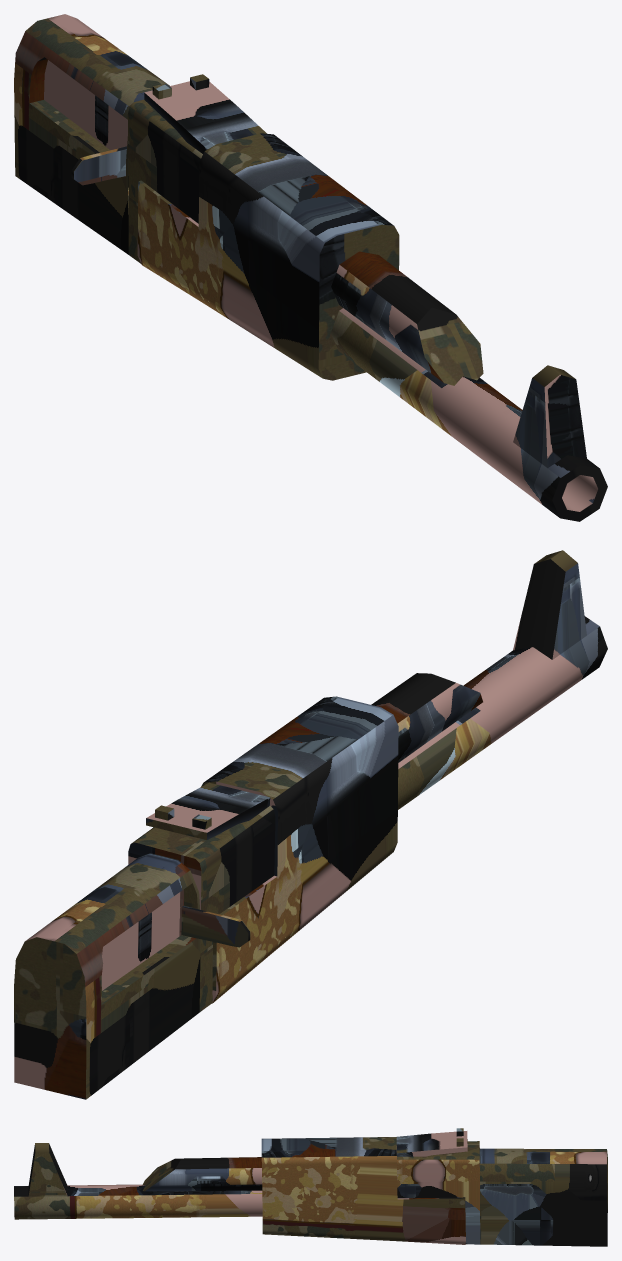
File: AkFVP.fbx
The picture shows the model from 3 angles, top to bottom: view 1: azimuth 30°, elevation 25°; view 2: azimuth 150°, elevation 25°; view 3: azimuth 270°, elevation 25°; orthographic projection. The views are drawn at different scales.
Parts seen in each view (by area): view 1: GunFPV; view 2: GunFPV; view 3: GunFPV.
Part boxes in pixels (x1,y1,x2,y2): GunFPV: (14,14,607,521); GunFPV: (14,550,607,1099); GunFPV: (14,1128,607,1246).
Size of the model in its own units: 0.0807 by 0.1092 by 0.5758.
